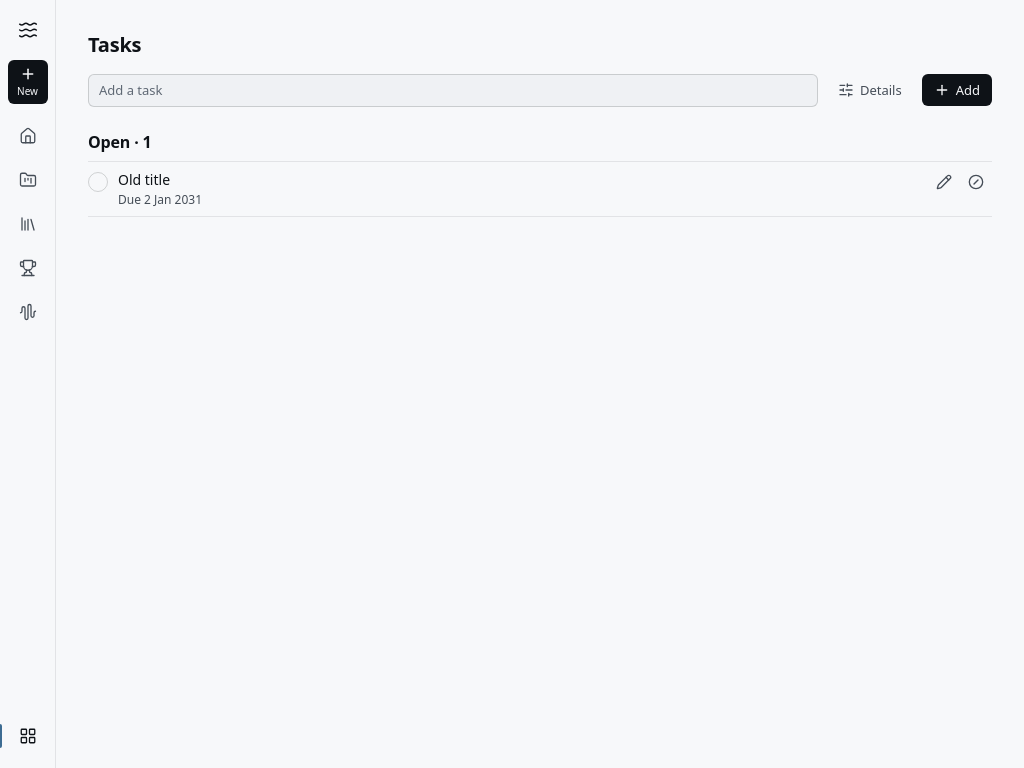
Test: Tasks page › edits a task inline, including clearing its deadline
Check: the heading "Tasks" is shown, box [88,31,141,58]
Check: the heading "Open · 1" is shown, box [88,131,992,162]
Click the button named "Edit: Old title": (944, 182) [928,166,960,198]
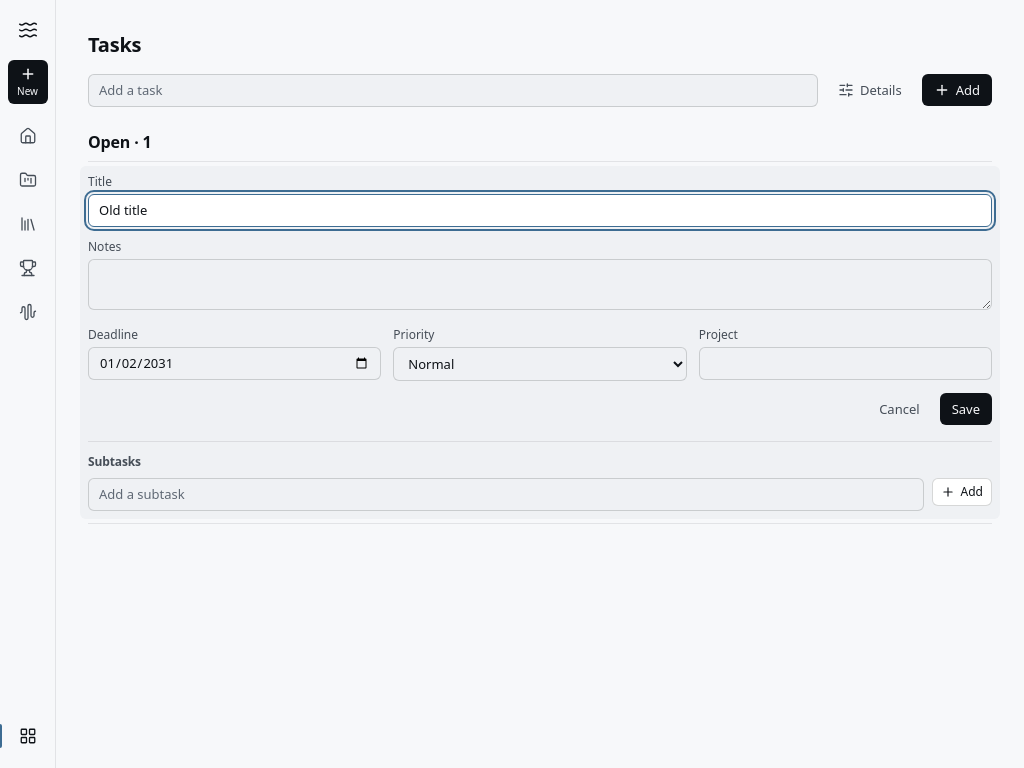
Check: the date field labelled "Deadline" holds "2031-01-02", box [88,347,381,380]
Replace the text in the field labelled "Title" with "New title": (540, 210) [88,194,992,227]
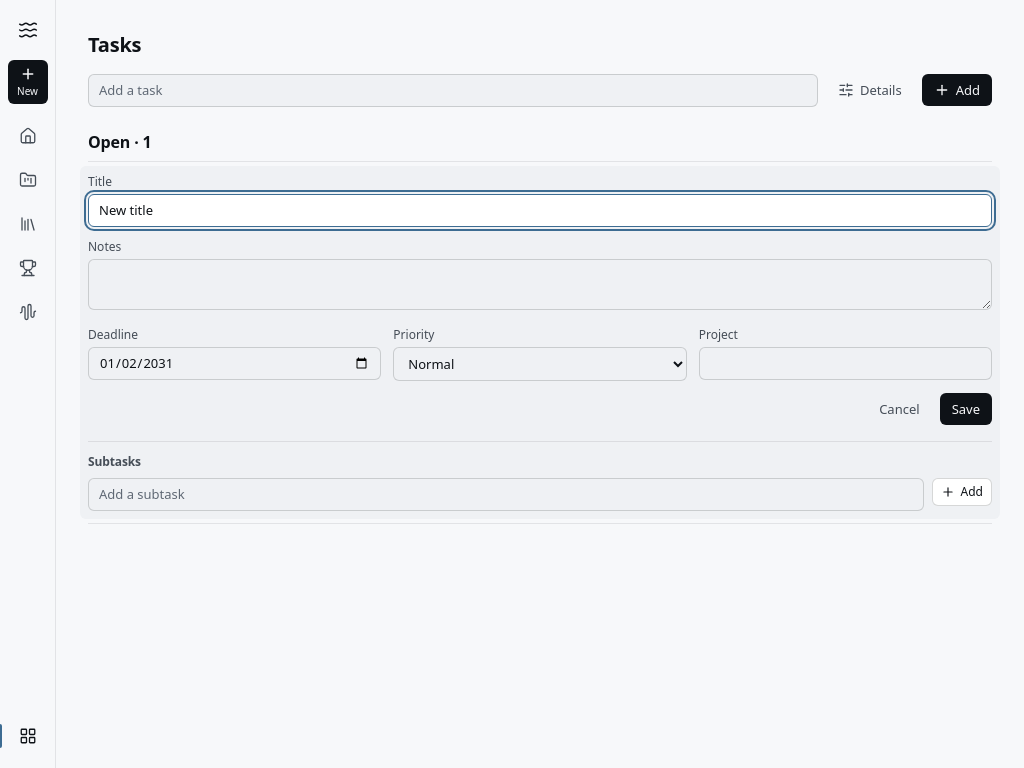
Clear the date field labelled "Deadline": (235, 363) [88,347,381,380]
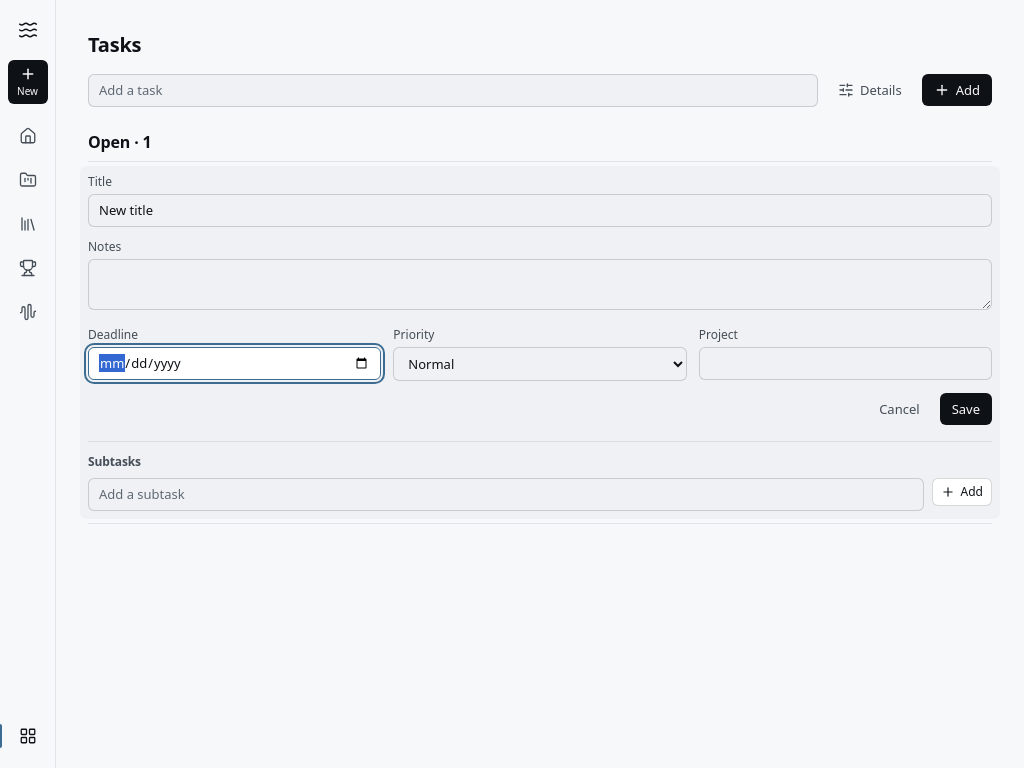
Click the button "Save": (966, 409) [940,393,992,425]
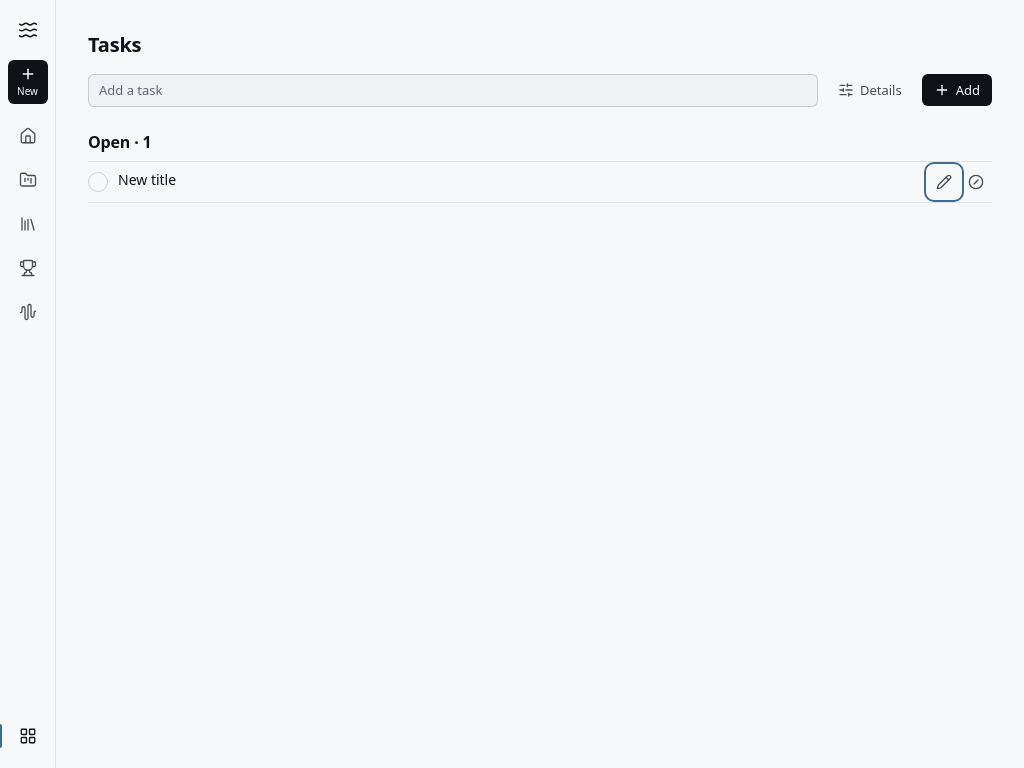
Check: the text "New title" is shown, box [118,170,176,189]
